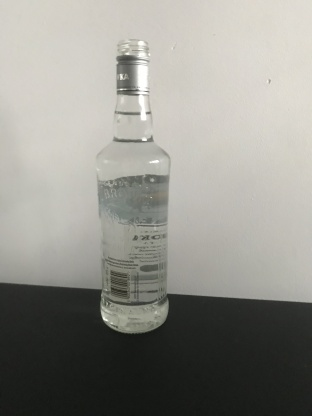nakretka: (114, 35, 151, 97)
